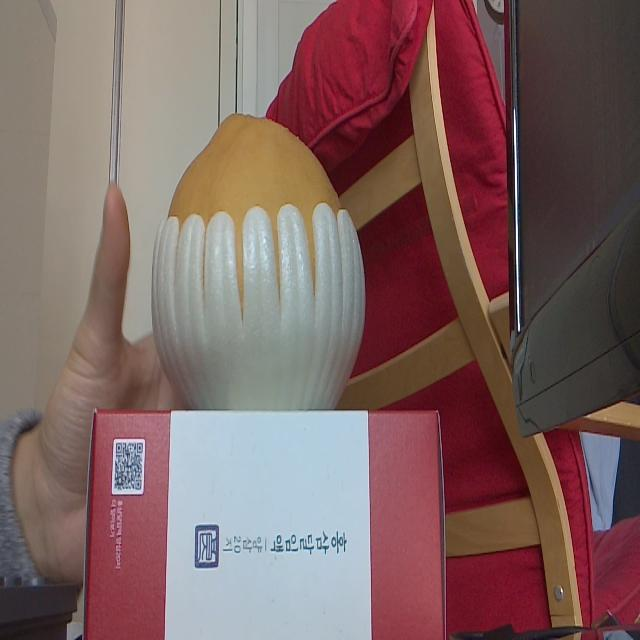pear: (154, 110, 364, 408)
